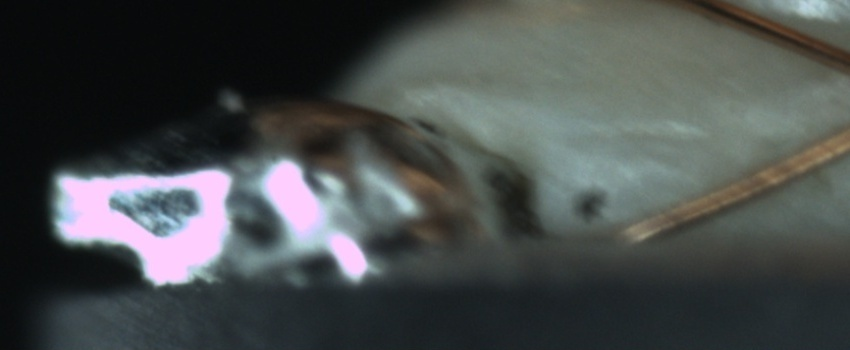DL: (557, 106, 717, 173)
